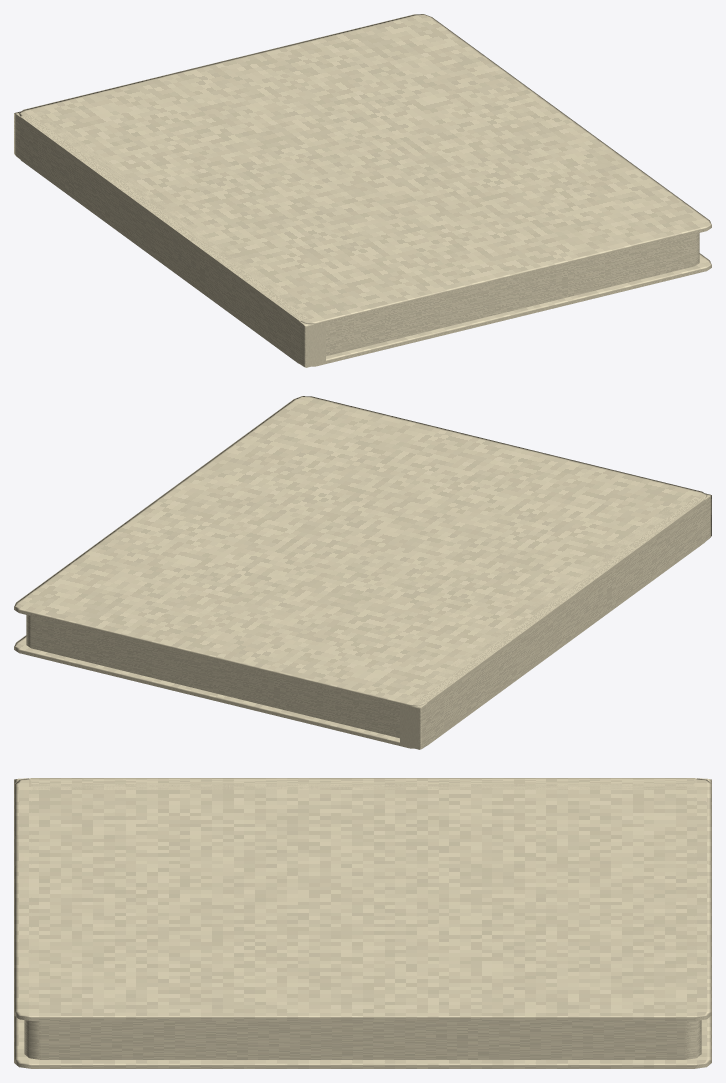
Rendered from calendar.glb.
3 views of the same model, one above another, from view 1: azimuth 30°, elevation 25°; view 2: azimuth 150°, elevation 25°; view 3: azimuth 270°, elevation 25° (orthographic). The views are drawn at different scales.
Visible parts, largest first — view 1: cover (×2), spine, pages; view 2: cover (×2), spine, pages; view 3: cover (×2), pages, spine.
Boxes of the visible parts, box(x1,y1,x2,y2) form: cover (×2): box(18, 14, 711, 366); spine: box(14, 111, 325, 367); pages: box(326, 233, 699, 356); cover (×2): box(14, 396, 707, 748); spine: box(400, 493, 711, 749); pages: box(26, 615, 399, 738); cover (×2): box(14, 778, 711, 1068); pages: box(24, 1020, 701, 1059); spine: box(14, 778, 711, 789).
Size of the model in its own units: 0.26 by 0.026 by 0.32.
1 material, 1 textured.
